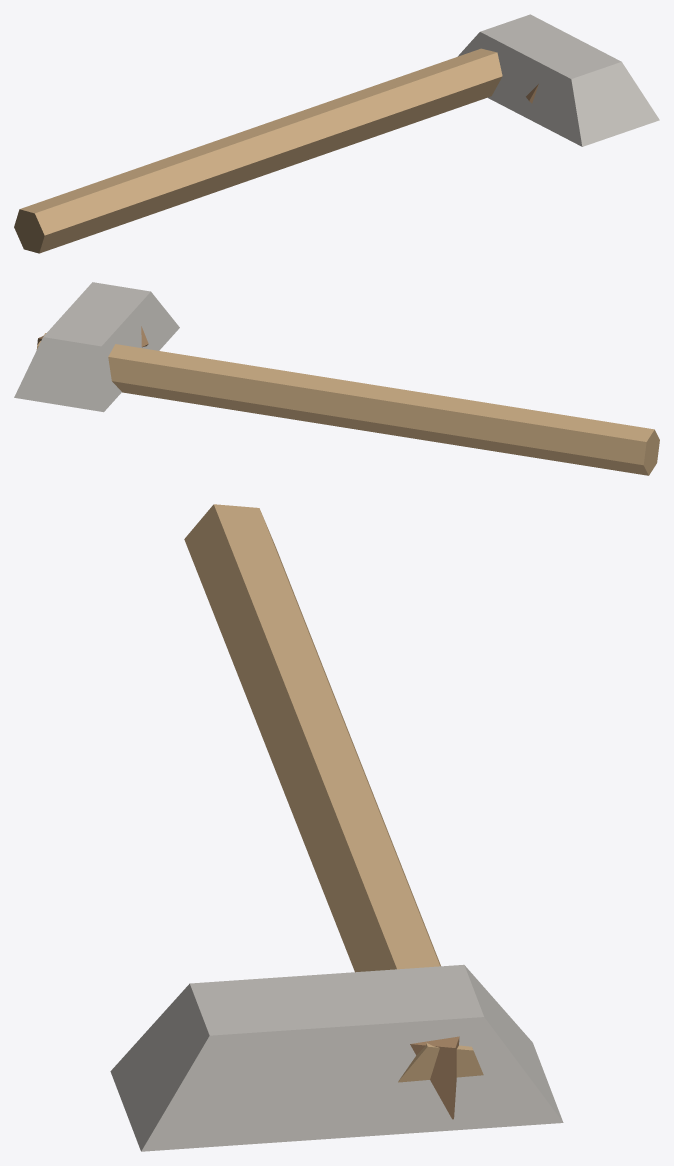
Rendered from item_010_ground_axe_s.glb.
3 renders of one model, top to bottom at view 1: azimuth 30°, elevation 25°; view 2: azimuth 150°, elevation 25°; view 3: azimuth 270°, elevation 25°, orthographic. The views are drawn at different scales.
Visible parts, largest first — view 1: item_010_ground_axe_s; view 2: item_010_ground_axe_s; view 3: item_010_ground_axe_s.
Part boxes in pixels (x1,y1,x2,y2): item_010_ground_axe_s: [14, 14, 659, 253]; item_010_ground_axe_s: [14, 282, 659, 475]; item_010_ground_axe_s: [110, 504, 563, 1151].
Bounding box in the file's own units: 0.6339 × 0.0594 × 0.2118.
